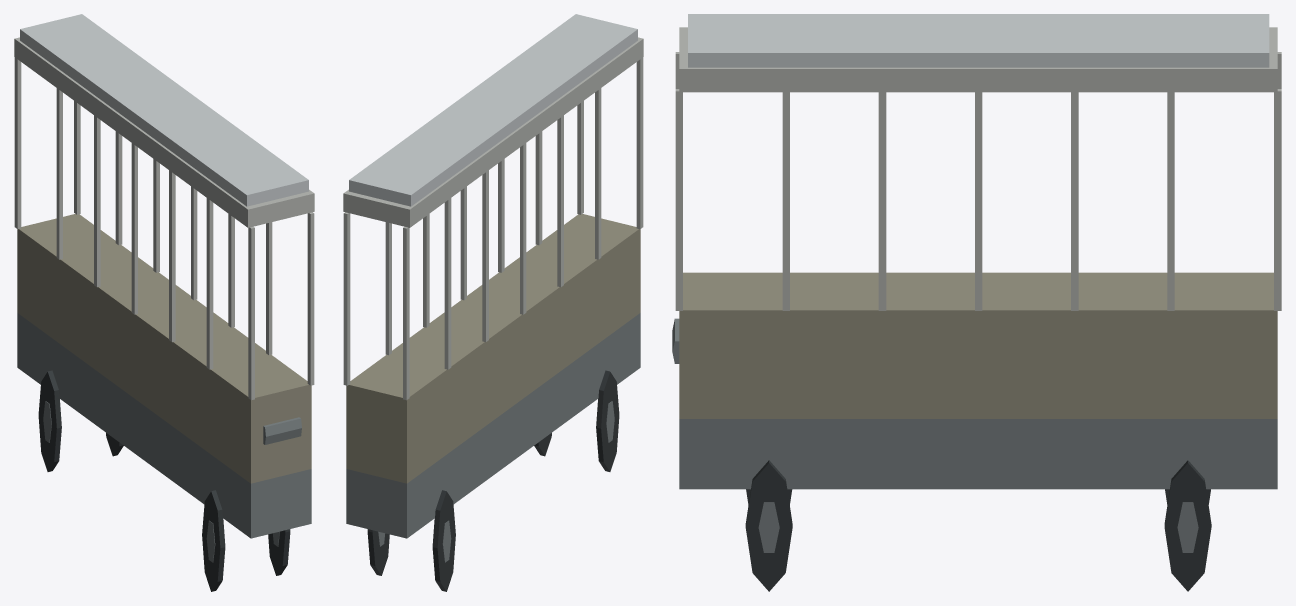
Rendered from stalled_tram.glb.
The picture shows the model from 3 angles, left to right: view 1: azimuth 30°, elevation 25°; view 2: azimuth 150°, elevation 25°; view 3: azimuth 270°, elevation 25°; orthographic projection. The views are drawn at different scales.
Visible parts, largest first — view 1: stalled_tram; view 2: stalled_tram; view 3: stalled_tram.
Part boxes in pixels (x1=…): stalled_tram: x1=14, y1=14, x2=314, y2=591; stalled_tram: x1=343, y1=14, x2=643, y2=591; stalled_tram: x1=672, y1=14, x2=1281, y2=591.
Size of the model in its own units: 0.4952 by 2.8 by 2.88.
